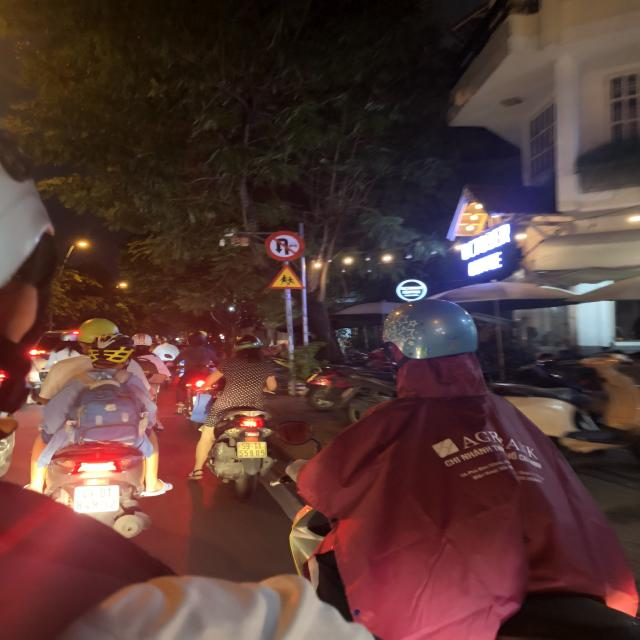Bien bao cam quay dau xe: (262, 230, 308, 262)
Bien bao tre em: (266, 263, 308, 292)
